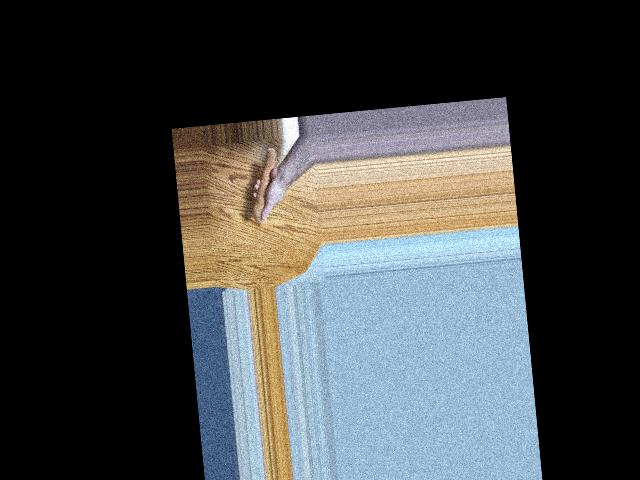sweet_potato: (244, 146, 285, 224)
